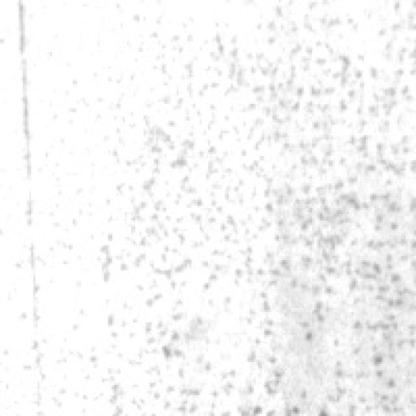pitted_surface: (91, 0, 412, 412)
